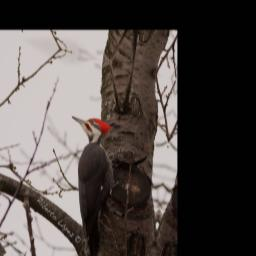Woodpecker: (50, 111, 125, 256)
